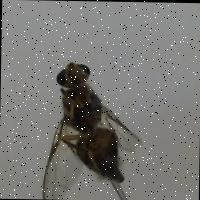Oriental-fruit-fly: (33, 51, 141, 200)
